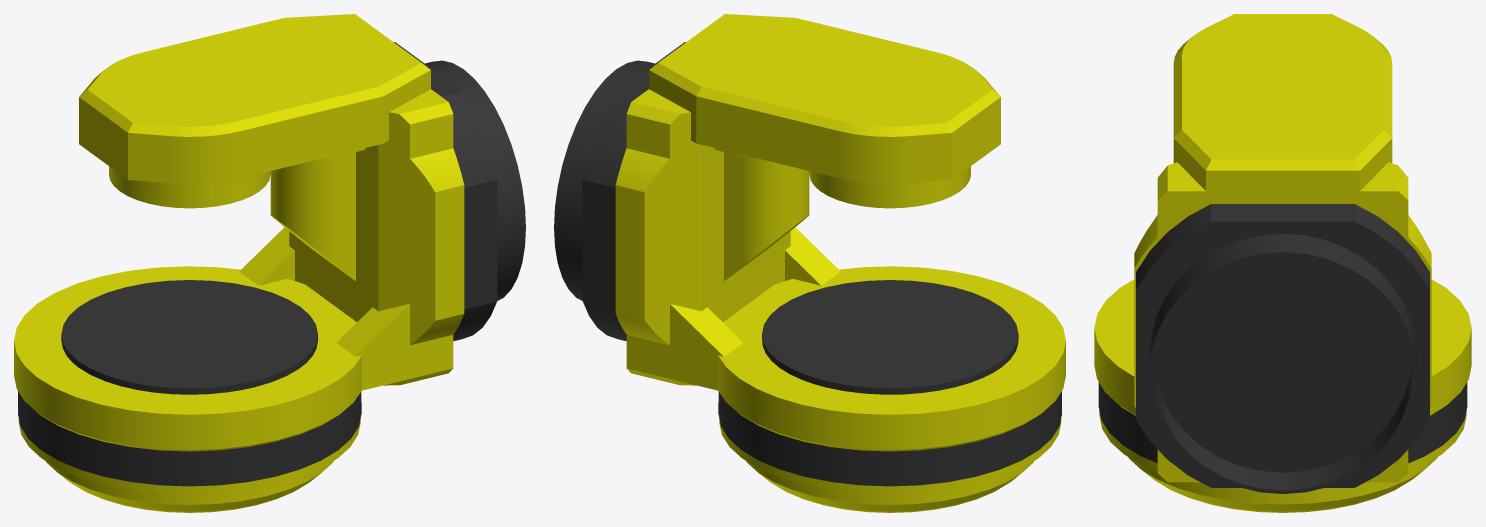
The picture shows the model from 3 angles, left to right: view 1: azimuth 30°, elevation 25°; view 2: azimuth 150°, elevation 25°; view 3: azimuth 270°, elevation 25°; orthographic projection. The views are drawn at different scales.
Parts seen in each view (by area): view 1: 3D_J5_AllCATPart; view 2: 3D_J5_AllCATPart; view 3: 3D_J5_AllCATPart.
Part boxes in pixels (left/top/right/bottom): 3D_J5_AllCATPart: left=14, top=14, right=525, bottom=512; 3D_J5_AllCATPart: left=554, top=14, right=1065, bottom=512; 3D_J5_AllCATPart: left=1094, top=14, right=1471, bottom=512.
Bounding box in the file's own units: 316 × 265 × 226.
